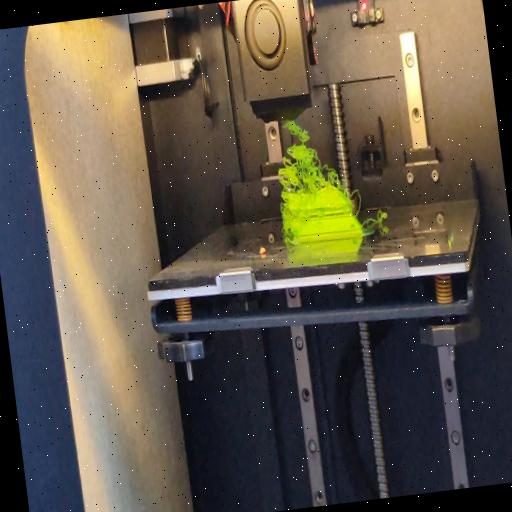spaghetti: (272, 116, 343, 194), (359, 208, 392, 232), (352, 188, 366, 216), (286, 232, 292, 242)
